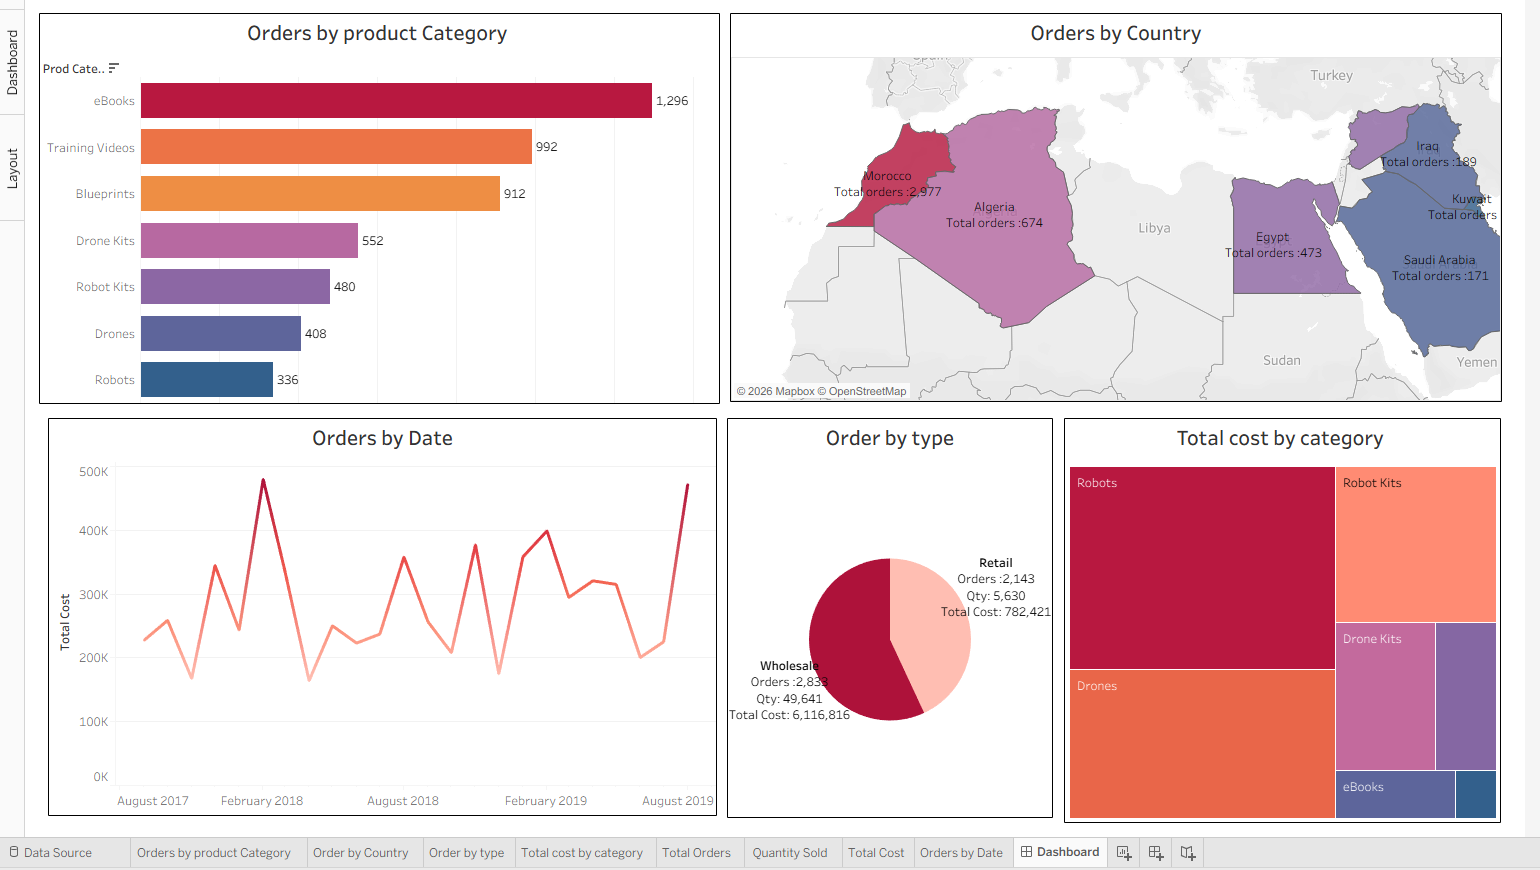

This screenshot's page, from the dashboard's own definition file:
{"tool":"tableau","page":{"name":"Dashboard","canvas":[1500,900],"ordinal":0},"visuals":[{"type":"worksheet","title":"Orders by product Category ","mark":"Automatic","rows":["ProdCategory"],"cols":["Sheet1_054A280338C74245999041373B87BD98"],"box":[14,33,681,391]},{"type":"worksheet","title":"Order by Country ","mark":"Automatic","box":[705,33,772,389]},{"type":"worksheet","title":"Orders by Date","mark":"Automatic","rows":["Total Cost"],"cols":["OrderDate"],"box":[23,438,669,398]},{"type":"worksheet","title":"Order by type","mark":"Pie","box":[702,438,326,400]},{"type":"worksheet","title":"Total cost by category","mark":"Automatic","box":[1039,438,437,405]}]}

Visuals, with their boxes in screenshot pixels (x1, y1, x2, y2):
"Orders by product Category " worksheet: 46 13 719 399
"Order by Country " worksheet: 729 13 1492 397
"Orders by Date" worksheet: 55 413 716 806
"Order by type" worksheet (Pie marks): 726 413 1048 808
"Total cost by category" worksheet: 1059 413 1491 813
